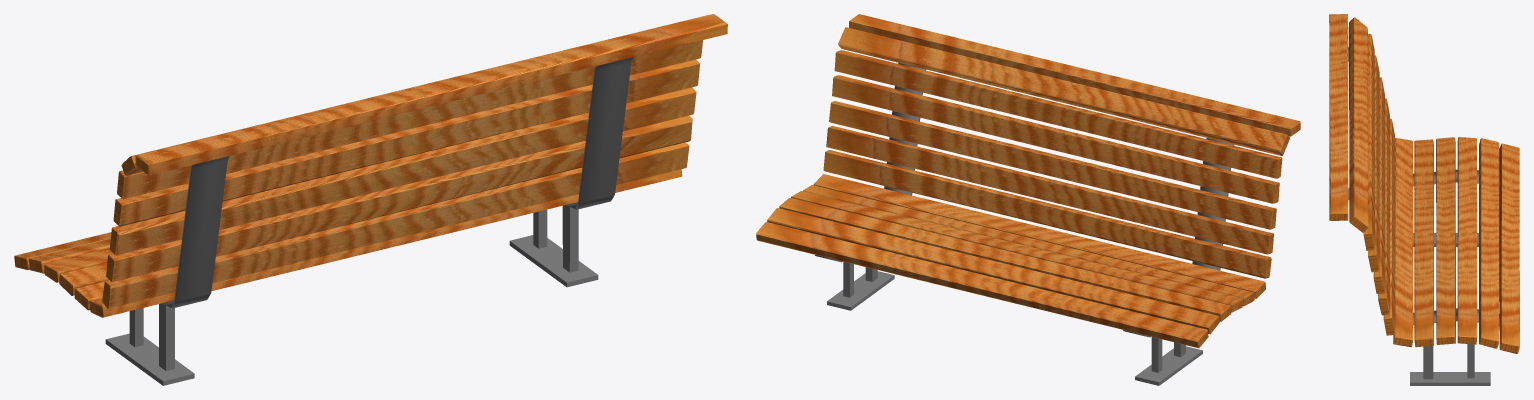
The model's file is wooden_bench.dae.
3 views of the same model, side by side, from view 1: azimuth 30°, elevation 25°; view 2: azimuth 150°, elevation 25°; view 3: azimuth 270°, elevation 25° (orthographic). The views are drawn at different scales.
Parts seen in each view (by area): view 1: Wood_Bench.001, Wood_Bench; view 2: Wood_Bench.001, Wood_Bench; view 3: Wood_Bench.001, Wood_Bench.
Boxes of the visible parts, x1,y1,x2,y2 form: Wood_Bench.001: (14,14,727,317); Wood_Bench: (105,57,633,385); Wood_Bench.001: (756,14,1300,348); Wood_Bench: (815,63,1234,385); Wood_Bench.001: (1329,14,1519,353); Wood_Bench: (1348,47,1499,385).
Size of the model in its own units: 1.67 by 0.6743 by 0.7731.
2 materials, 1 textured.
